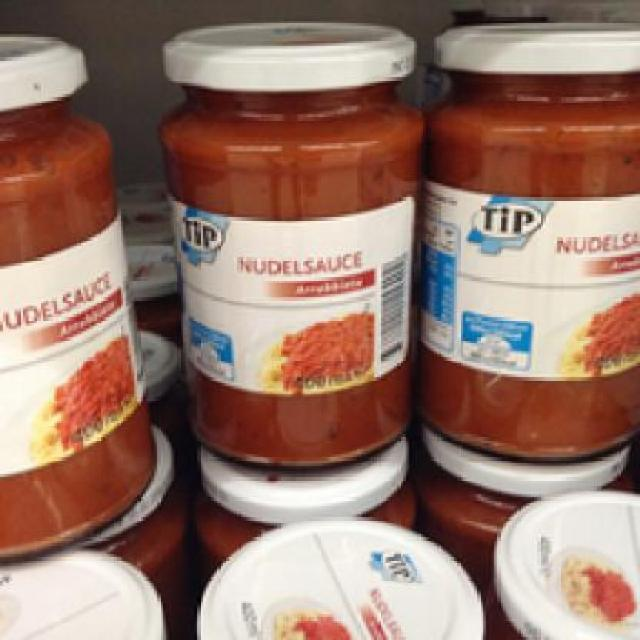Tomato Sauce: (154, 20, 420, 469), (417, 17, 637, 454), (0, 28, 157, 554)
